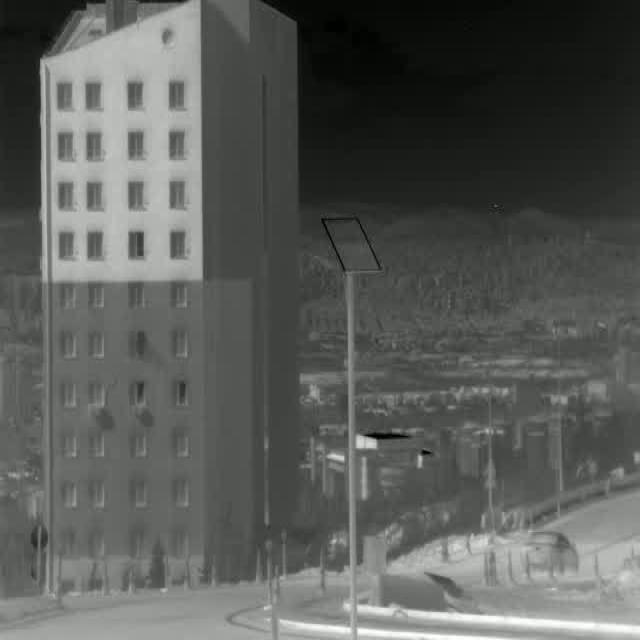Car: (518, 531, 580, 576)
